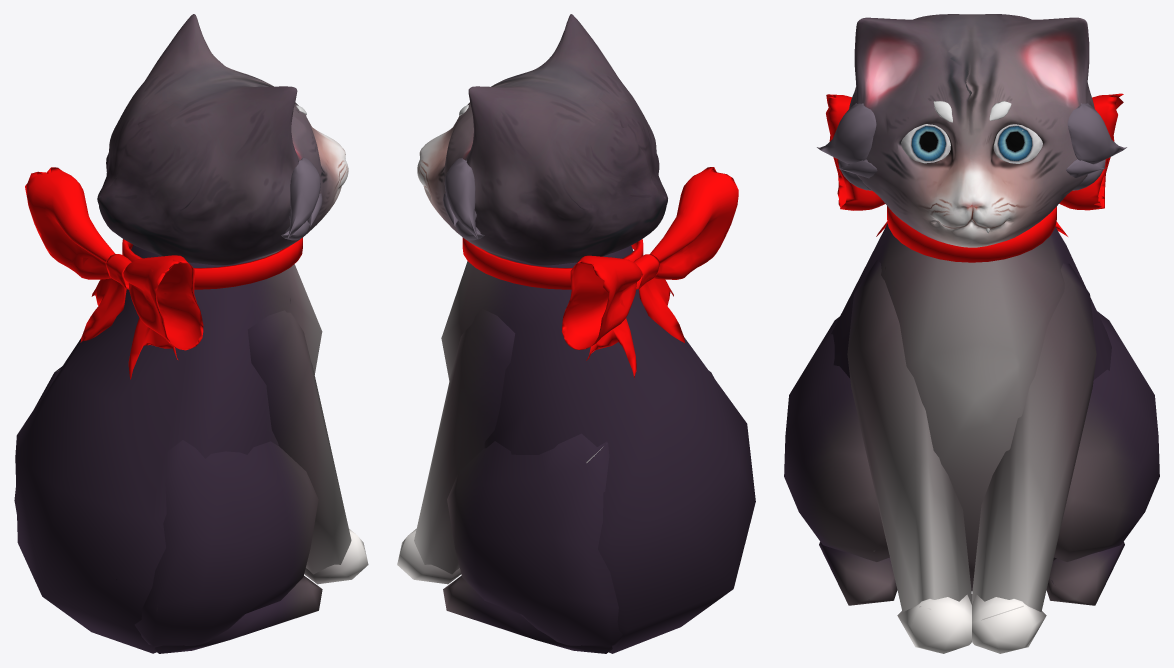
File: bubblecat_notail.fbx
3 views of the same model, side by side, from view 1: azimuth 30°, elevation 25°; view 2: azimuth 150°, elevation 25°; view 3: azimuth 270°, elevation 25° (orthographic). The views are drawn at different scales.
Parts seen in each view (by area): view 1: body.002, head, bow, tufts; view 2: body.002, head, bow, tufts; view 3: body.002, head, bow, tufts, eyes, brows.
Part boxes in pixels (<box>): body.002: <box>14,245,368,653</box>; head: <box>97,14,348,265</box>; bow: <box>25,167,302,379</box>; tufts: <box>281,158,322,240</box>; body.002: <box>397,245,755,653</box>; head: <box>417,14,667,265</box>; bow: <box>462,167,738,378</box>; tufts: <box>443,158,484,240</box>; body.002: <box>784,223,1159,653</box>; head: <box>849,14,1094,247</box>; bow: <box>826,93,1123,262</box>; tufts: <box>817,103,1126,190</box>; eyes: <box>901,124,1042,163</box>; brows: <box>933,101,1011,122</box>.
Bounding box in the file's own units: 266 × 437 × 249.
6 materials, 3 textured.
